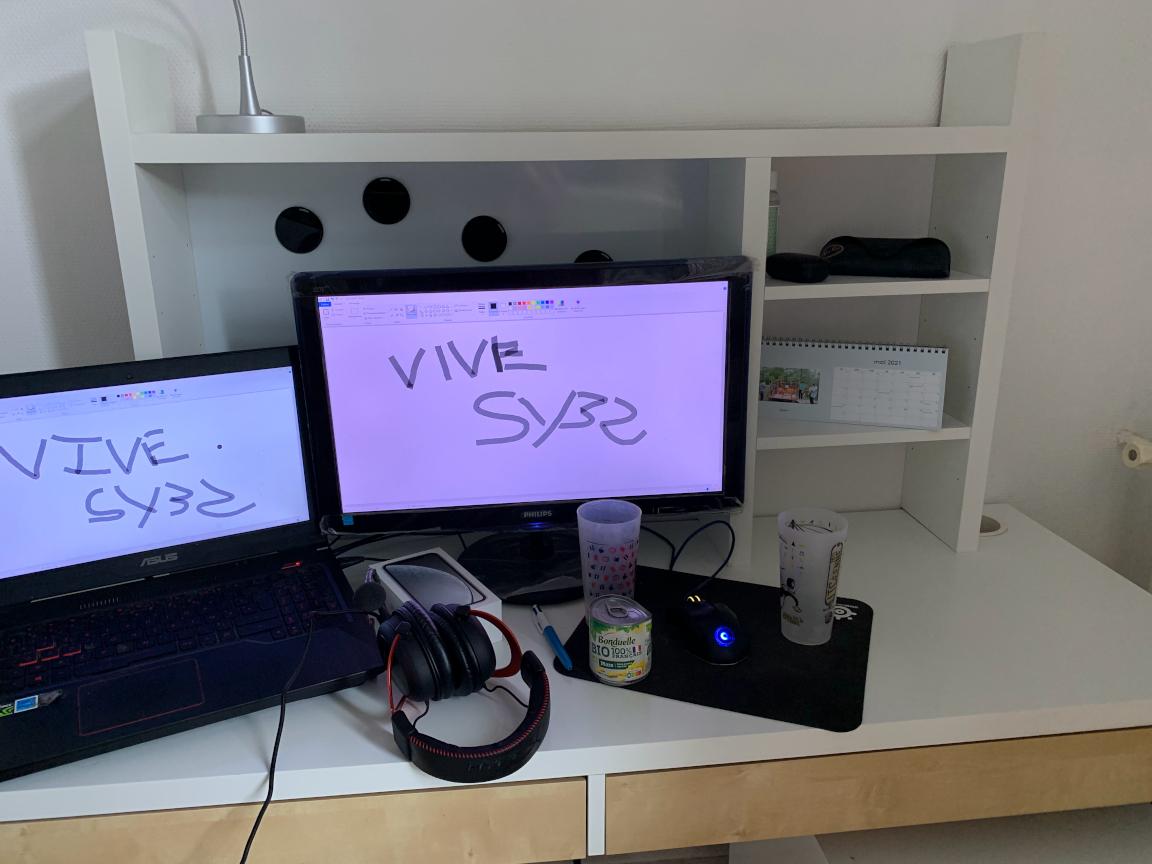ecocup: (775, 505, 849, 648), (575, 497, 641, 624)
